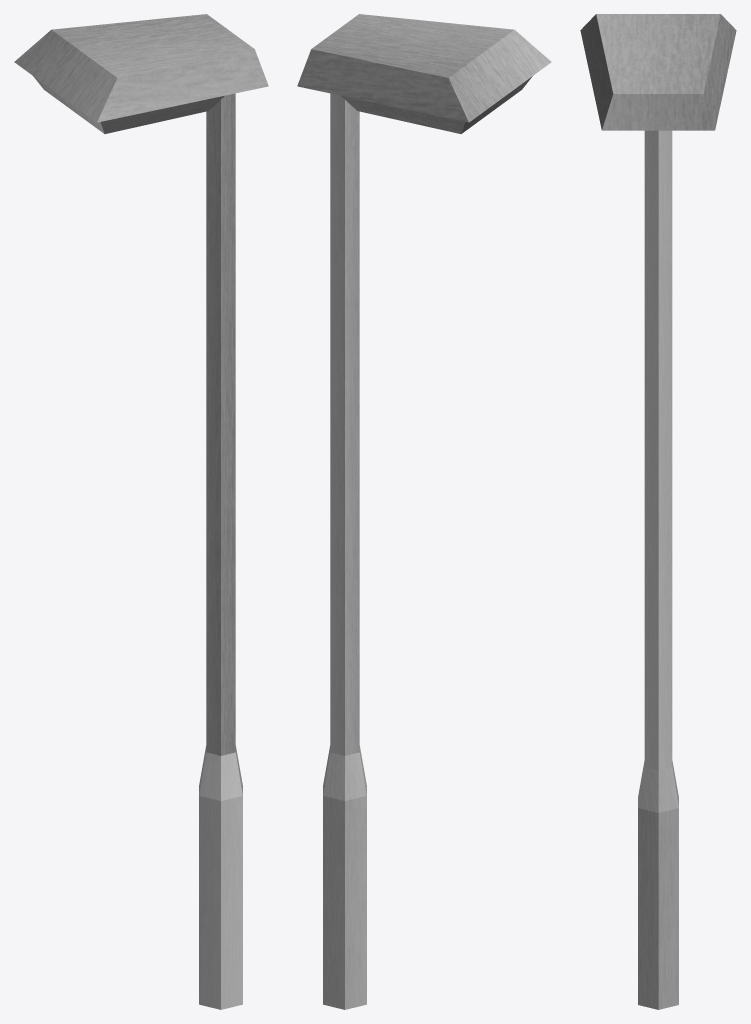
File: lamp.obj
3 renders of one model, left to right at view 1: azimuth 30°, elevation 25°; view 2: azimuth 150°, elevation 25°; view 3: azimuth 270°, elevation 25°, orthographic. The views are drawn at different scales.
Visible parts, largest first — view 1: street_lamp; view 2: street_lamp; view 3: street_lamp.
Part boxes in pixels (left/top/right/bottom): street_lamp: left=14, top=14, right=268, bottom=1009; street_lamp: left=297, top=14, right=551, bottom=1009; street_lamp: left=580, top=14, right=736, bottom=1009.
Bounding box in the file's own units: 0.6306 × 3.15 × 0.4829.
1 material, 1 textured.
